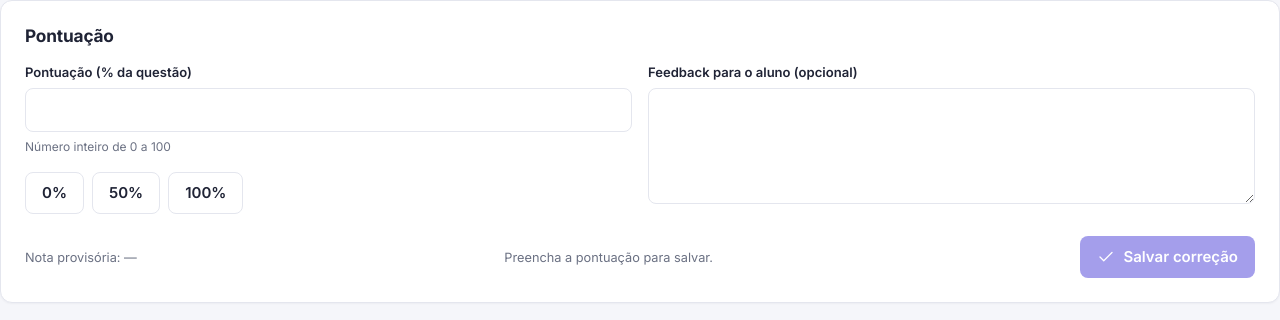
PainelCorrecao › arredonda o percentual para inteiro (a API só aceita inteiros)
This screenshot has width=1280, height=320.
In the number field labelled "Pontuação (% da questão)": (328,110) [25,88,632,132], type "62.6"
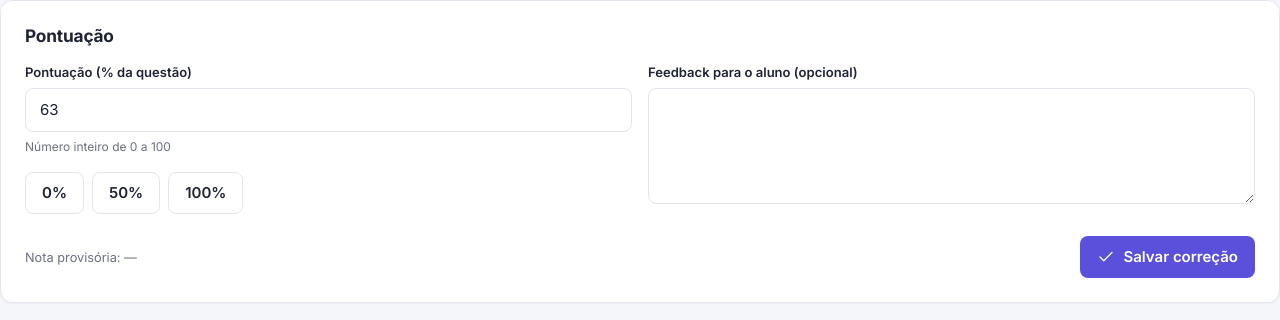
Expected: the number field labelled "Pontuação (% da questão)" holds "63", [25,88,632,132]
